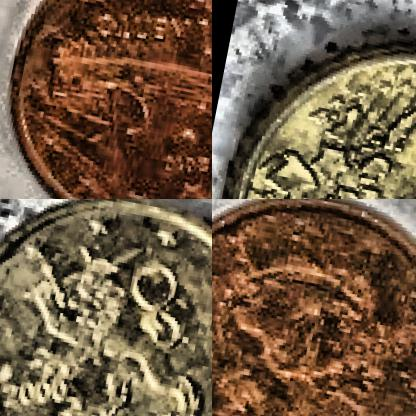coin: (0, 199, 211, 415), (212, 199, 415, 415), (0, 0, 211, 198), (212, 19, 415, 198)
